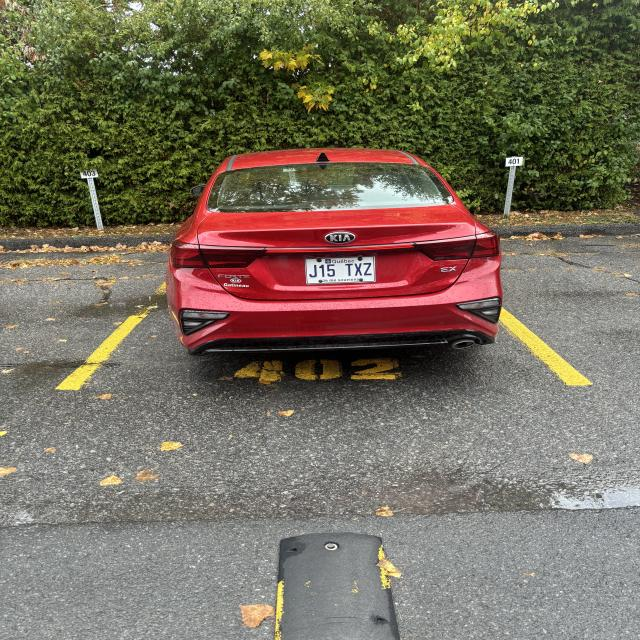plaque: (306, 257, 375, 284)
